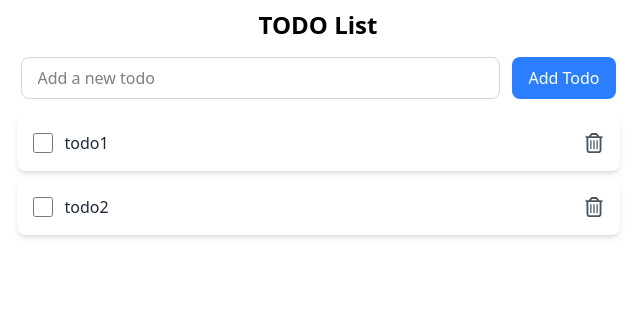
Test case: Rendering › add new todo
Type "New Todo Item" into the field with test id "input-add" at (260, 78), box [20, 57, 500, 99]
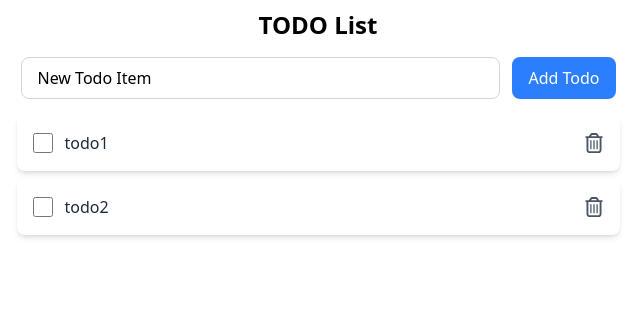
Click the button with test id "button-add" at (564, 78), box [512, 57, 616, 99]
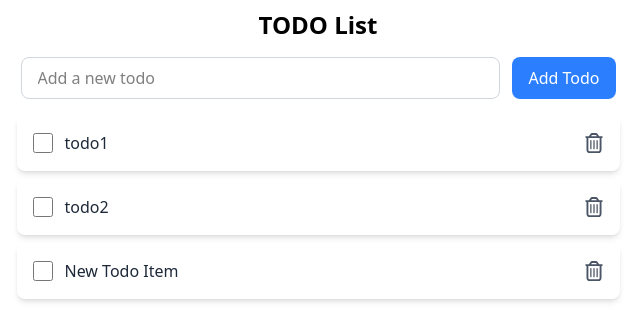
Result: the list item with test id "li-mock-id" is shown at [16, 243, 620, 299]
